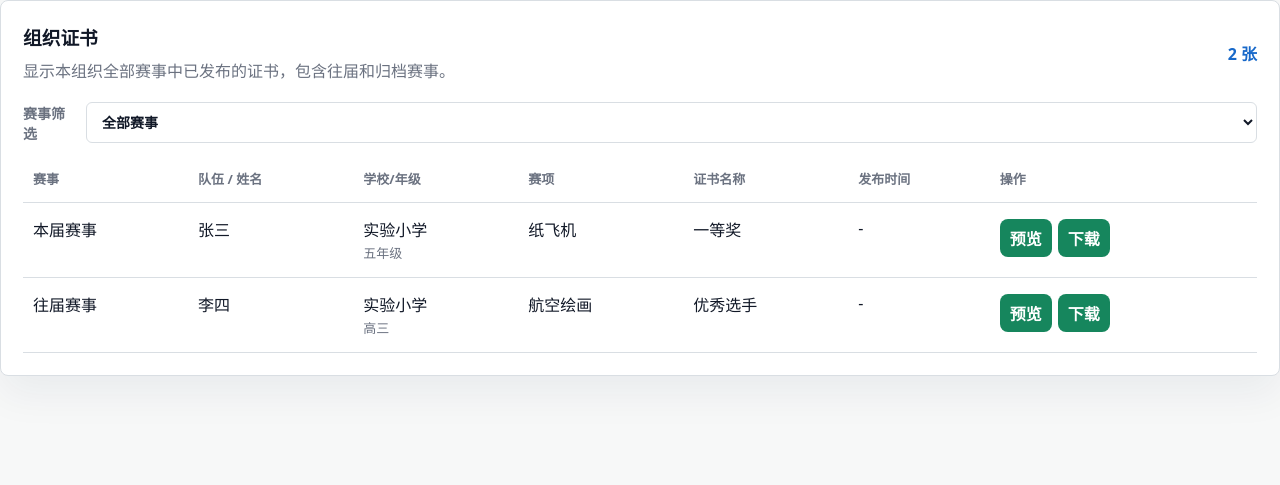
it: OrganizationCertificatesPage › releases the object URL and closes the placeholder if popup navigation fails
Click the button "预览" in the row of "本届赛事" at (1026, 238), box [1000,219,1052,257]
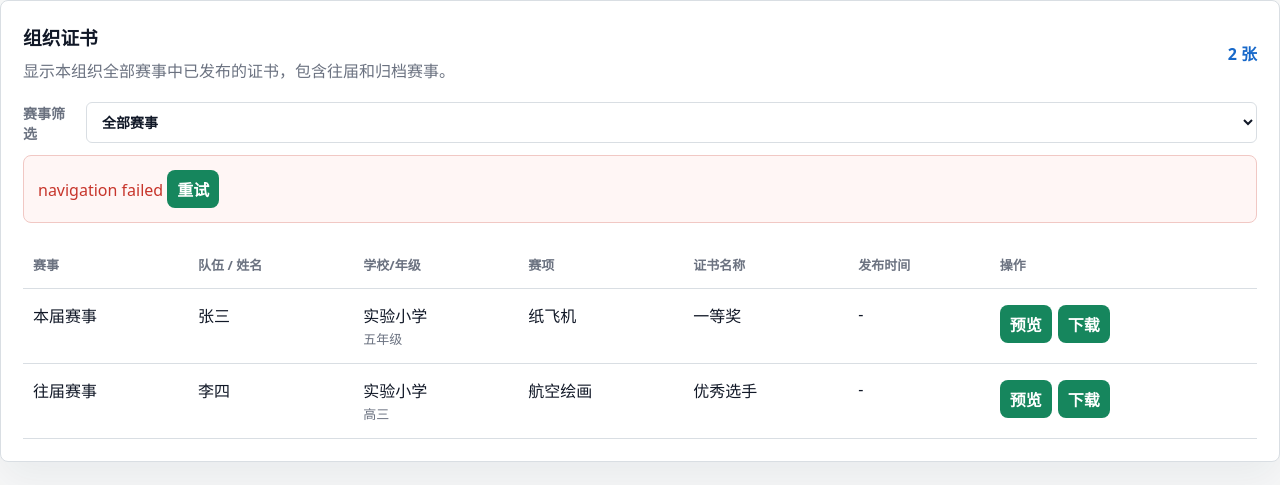
Expected: the message "navigation failed 重试" is shown, [23,155,1257,223]
